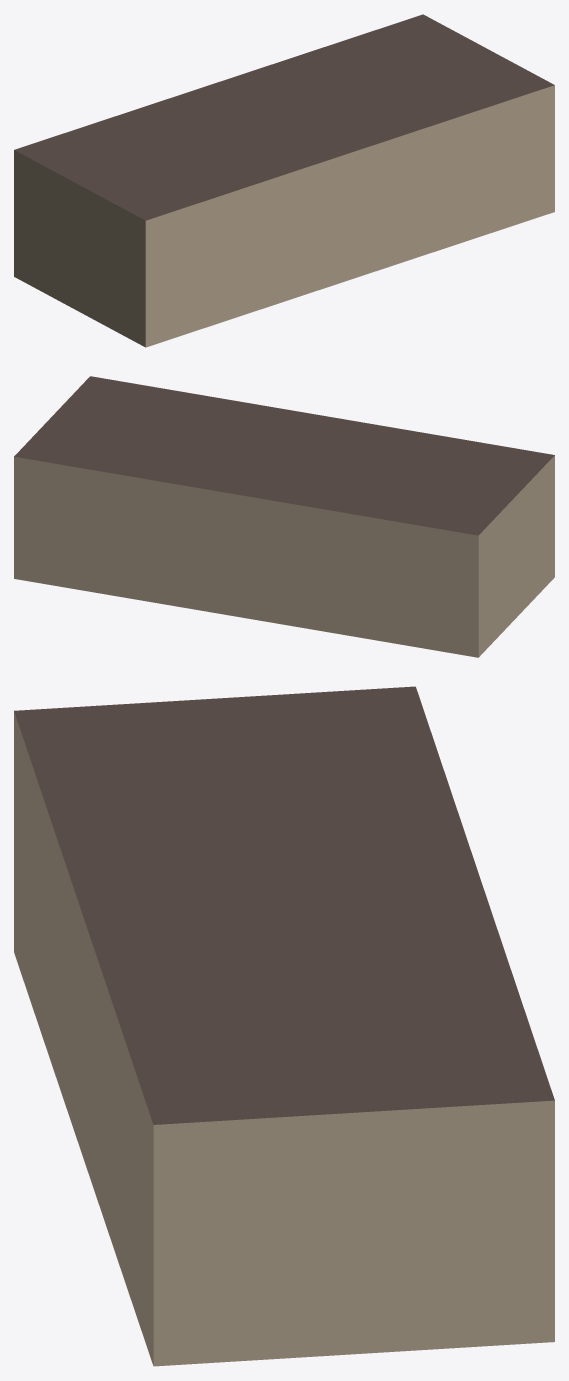
The picture shows the model from 3 angles, top to bottom: view 1: azimuth 30°, elevation 25°; view 2: azimuth 150°, elevation 25°; view 3: azimuth 270°, elevation 25°; orthographic projection. The views are drawn at different scales.
Visible parts, largest first — view 1: HP-w859424127; view 2: HP-w859424127; view 3: HP-w859424127.
Part boxes in pixels (box(x1,y1,x2,y2)): HP-w859424127: box(14, 14, 554, 347); HP-w859424127: box(14, 376, 554, 657); HP-w859424127: box(14, 686, 554, 1366).
Bounding box in the file's own units: 35.05 × 9 × 18.27.
